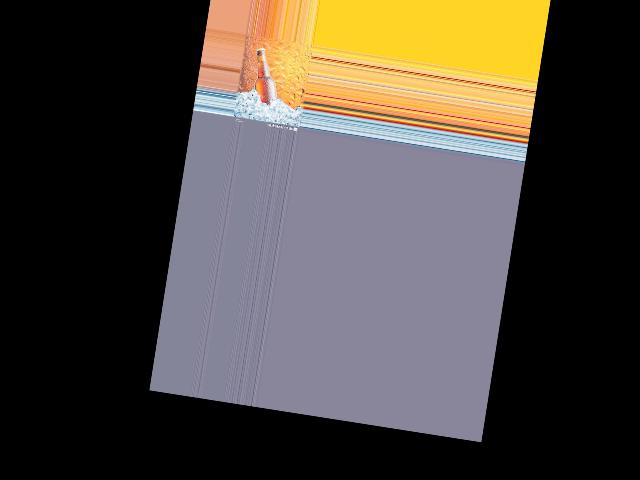beer: (246, 46, 283, 106)
